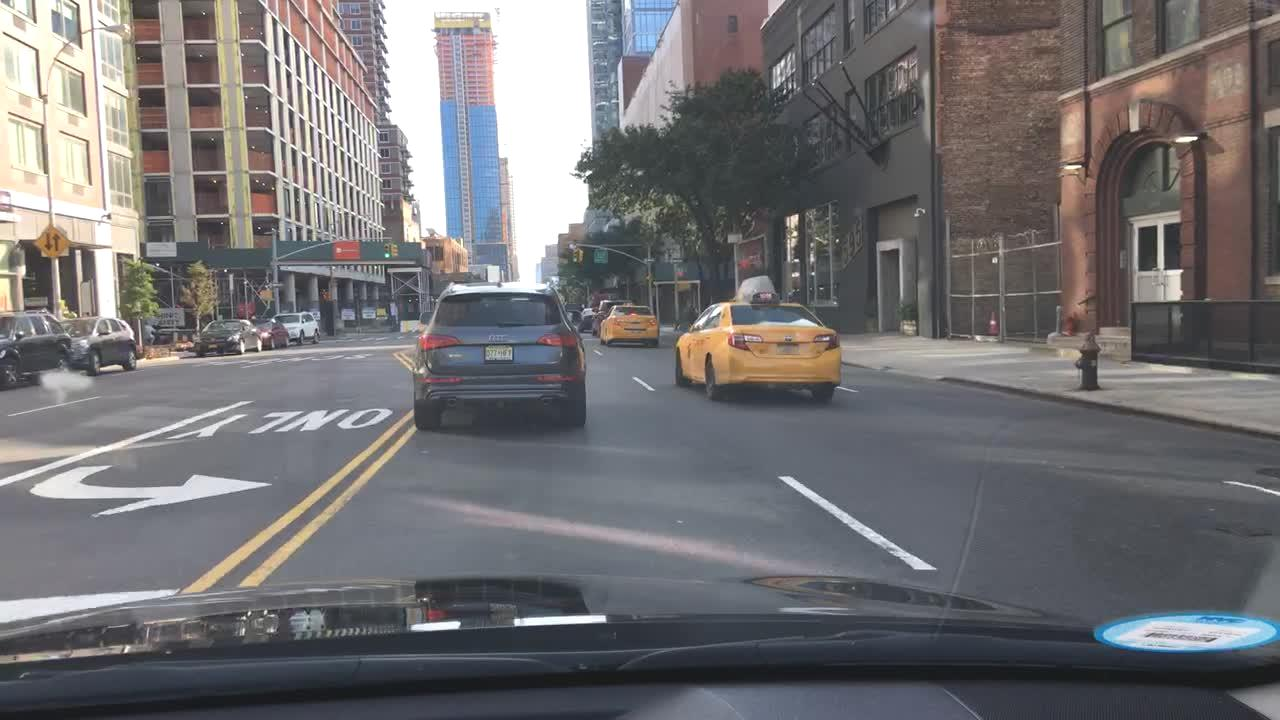Audi: (483, 330, 515, 344)
